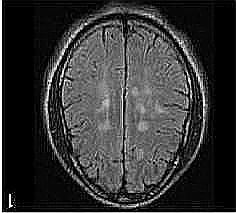Normal_Brain: (4, 2, 236, 213)
